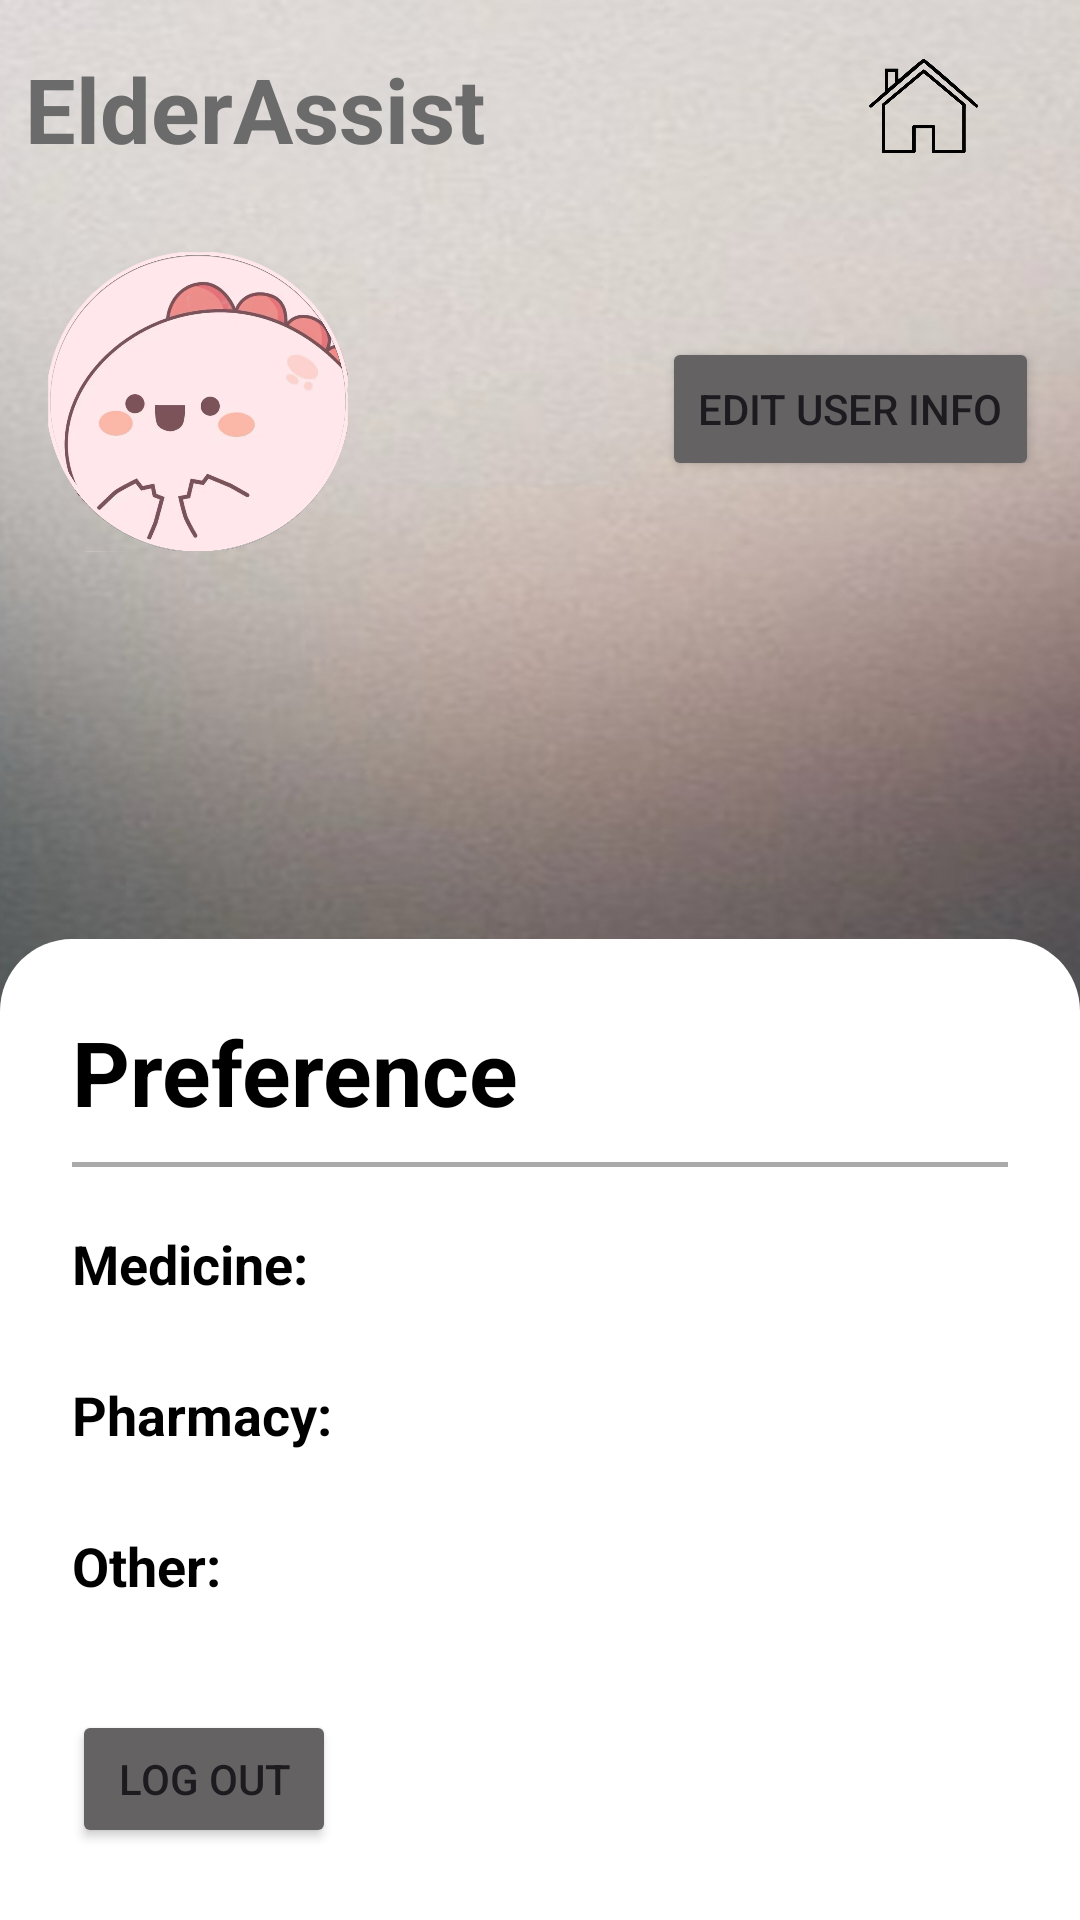

Icons on this 1080px x 1920px Android screen, each with the point to tap as (x=x, y=y):
back to home: (x=923, y=106)
